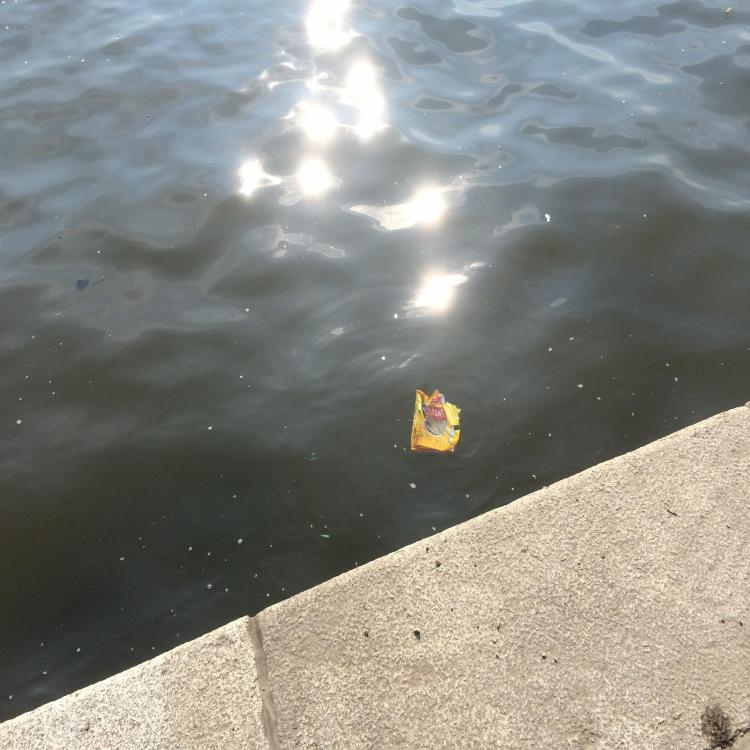Other plastic wrapper: (320, 534, 330, 538)
Plastic film: (411, 389, 461, 453)
Unlabeled litter: (310, 457, 318, 460), (312, 453, 314, 455)
